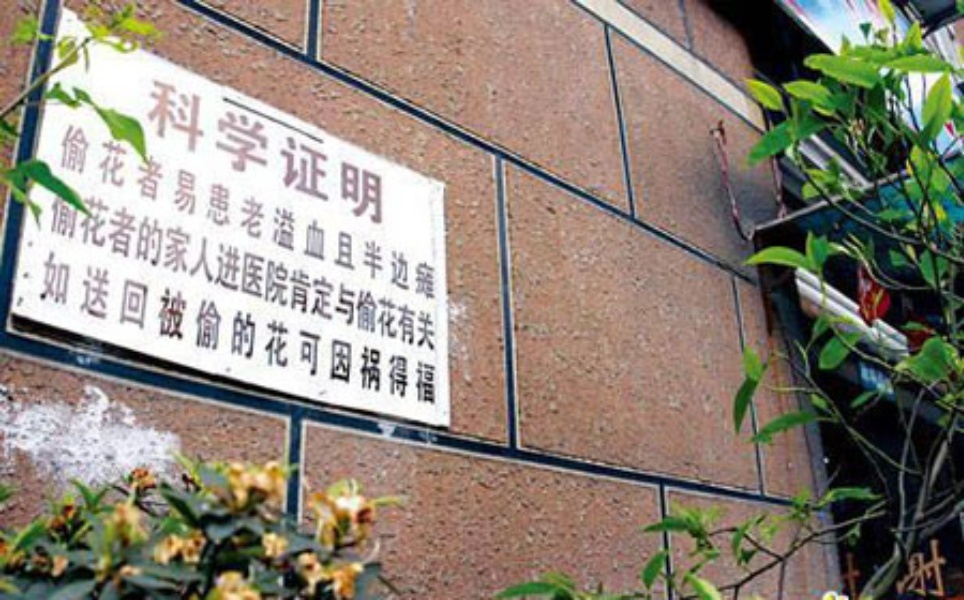text: (65, 121, 80, 305), (81, 121, 96, 305), (97, 121, 112, 305), (113, 121, 128, 305), (129, 121, 144, 305), (145, 121, 160, 305), (161, 121, 176, 305), (177, 121, 192, 305), (193, 121, 208, 305), (209, 121, 224, 305), (225, 121, 240, 305), (241, 121, 256, 305), (257, 121, 272, 305), (273, 121, 288, 305), (289, 121, 304, 305), (305, 121, 320, 305), (321, 121, 336, 305), (337, 121, 352, 305), (353, 121, 368, 305), (369, 121, 384, 305), (385, 121, 400, 305), (401, 121, 416, 305), (417, 121, 432, 305), (65, 181, 80, 361), (81, 181, 96, 361), (97, 181, 112, 361), (113, 181, 128, 361), (129, 181, 144, 361), (145, 181, 160, 361), (161, 181, 176, 361), (177, 181, 192, 361), (193, 181, 208, 361), (209, 181, 224, 361), (225, 181, 240, 361), (241, 181, 256, 361), (257, 181, 272, 361), (273, 181, 288, 361), (289, 181, 304, 361), (305, 181, 320, 361), (321, 181, 336, 361), (337, 181, 352, 361), (353, 181, 368, 361), (369, 181, 384, 361), (385, 181, 400, 361), (401, 181, 416, 361), (417, 181, 432, 361), (49, 249, 64, 414), (65, 249, 80, 414), (81, 249, 96, 414), (97, 249, 112, 414), (113, 249, 128, 414), (129, 249, 144, 414), (145, 249, 160, 414), (161, 249, 176, 414), (177, 249, 192, 414), (193, 249, 208, 414), (209, 249, 224, 414), (225, 249, 240, 414), (241, 249, 256, 414), (257, 249, 272, 414), (273, 249, 288, 414), (289, 249, 304, 414), (305, 249, 320, 414), (321, 249, 336, 414), (337, 249, 352, 414), (353, 249, 368, 414), (369, 249, 384, 414), (385, 249, 400, 414), (401, 249, 416, 414), (417, 249, 432, 414), (161, 78, 176, 230), (177, 78, 192, 230), (193, 78, 208, 230), (209, 78, 224, 230), (225, 78, 240, 230), (241, 78, 256, 230), (257, 78, 272, 230), (273, 78, 288, 230), (289, 78, 304, 230), (305, 78, 320, 230), (321, 78, 336, 230), (337, 78, 352, 230), (353, 78, 368, 230), (369, 78, 384, 230), (148, 78, 160, 230), (433, 121, 440, 305), (433, 181, 440, 361), (433, 249, 440, 414), (58, 181, 64, 361), (43, 249, 48, 414), (385, 78, 390, 230)
